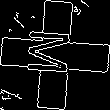M_E: (28, 30, 82, 80)
